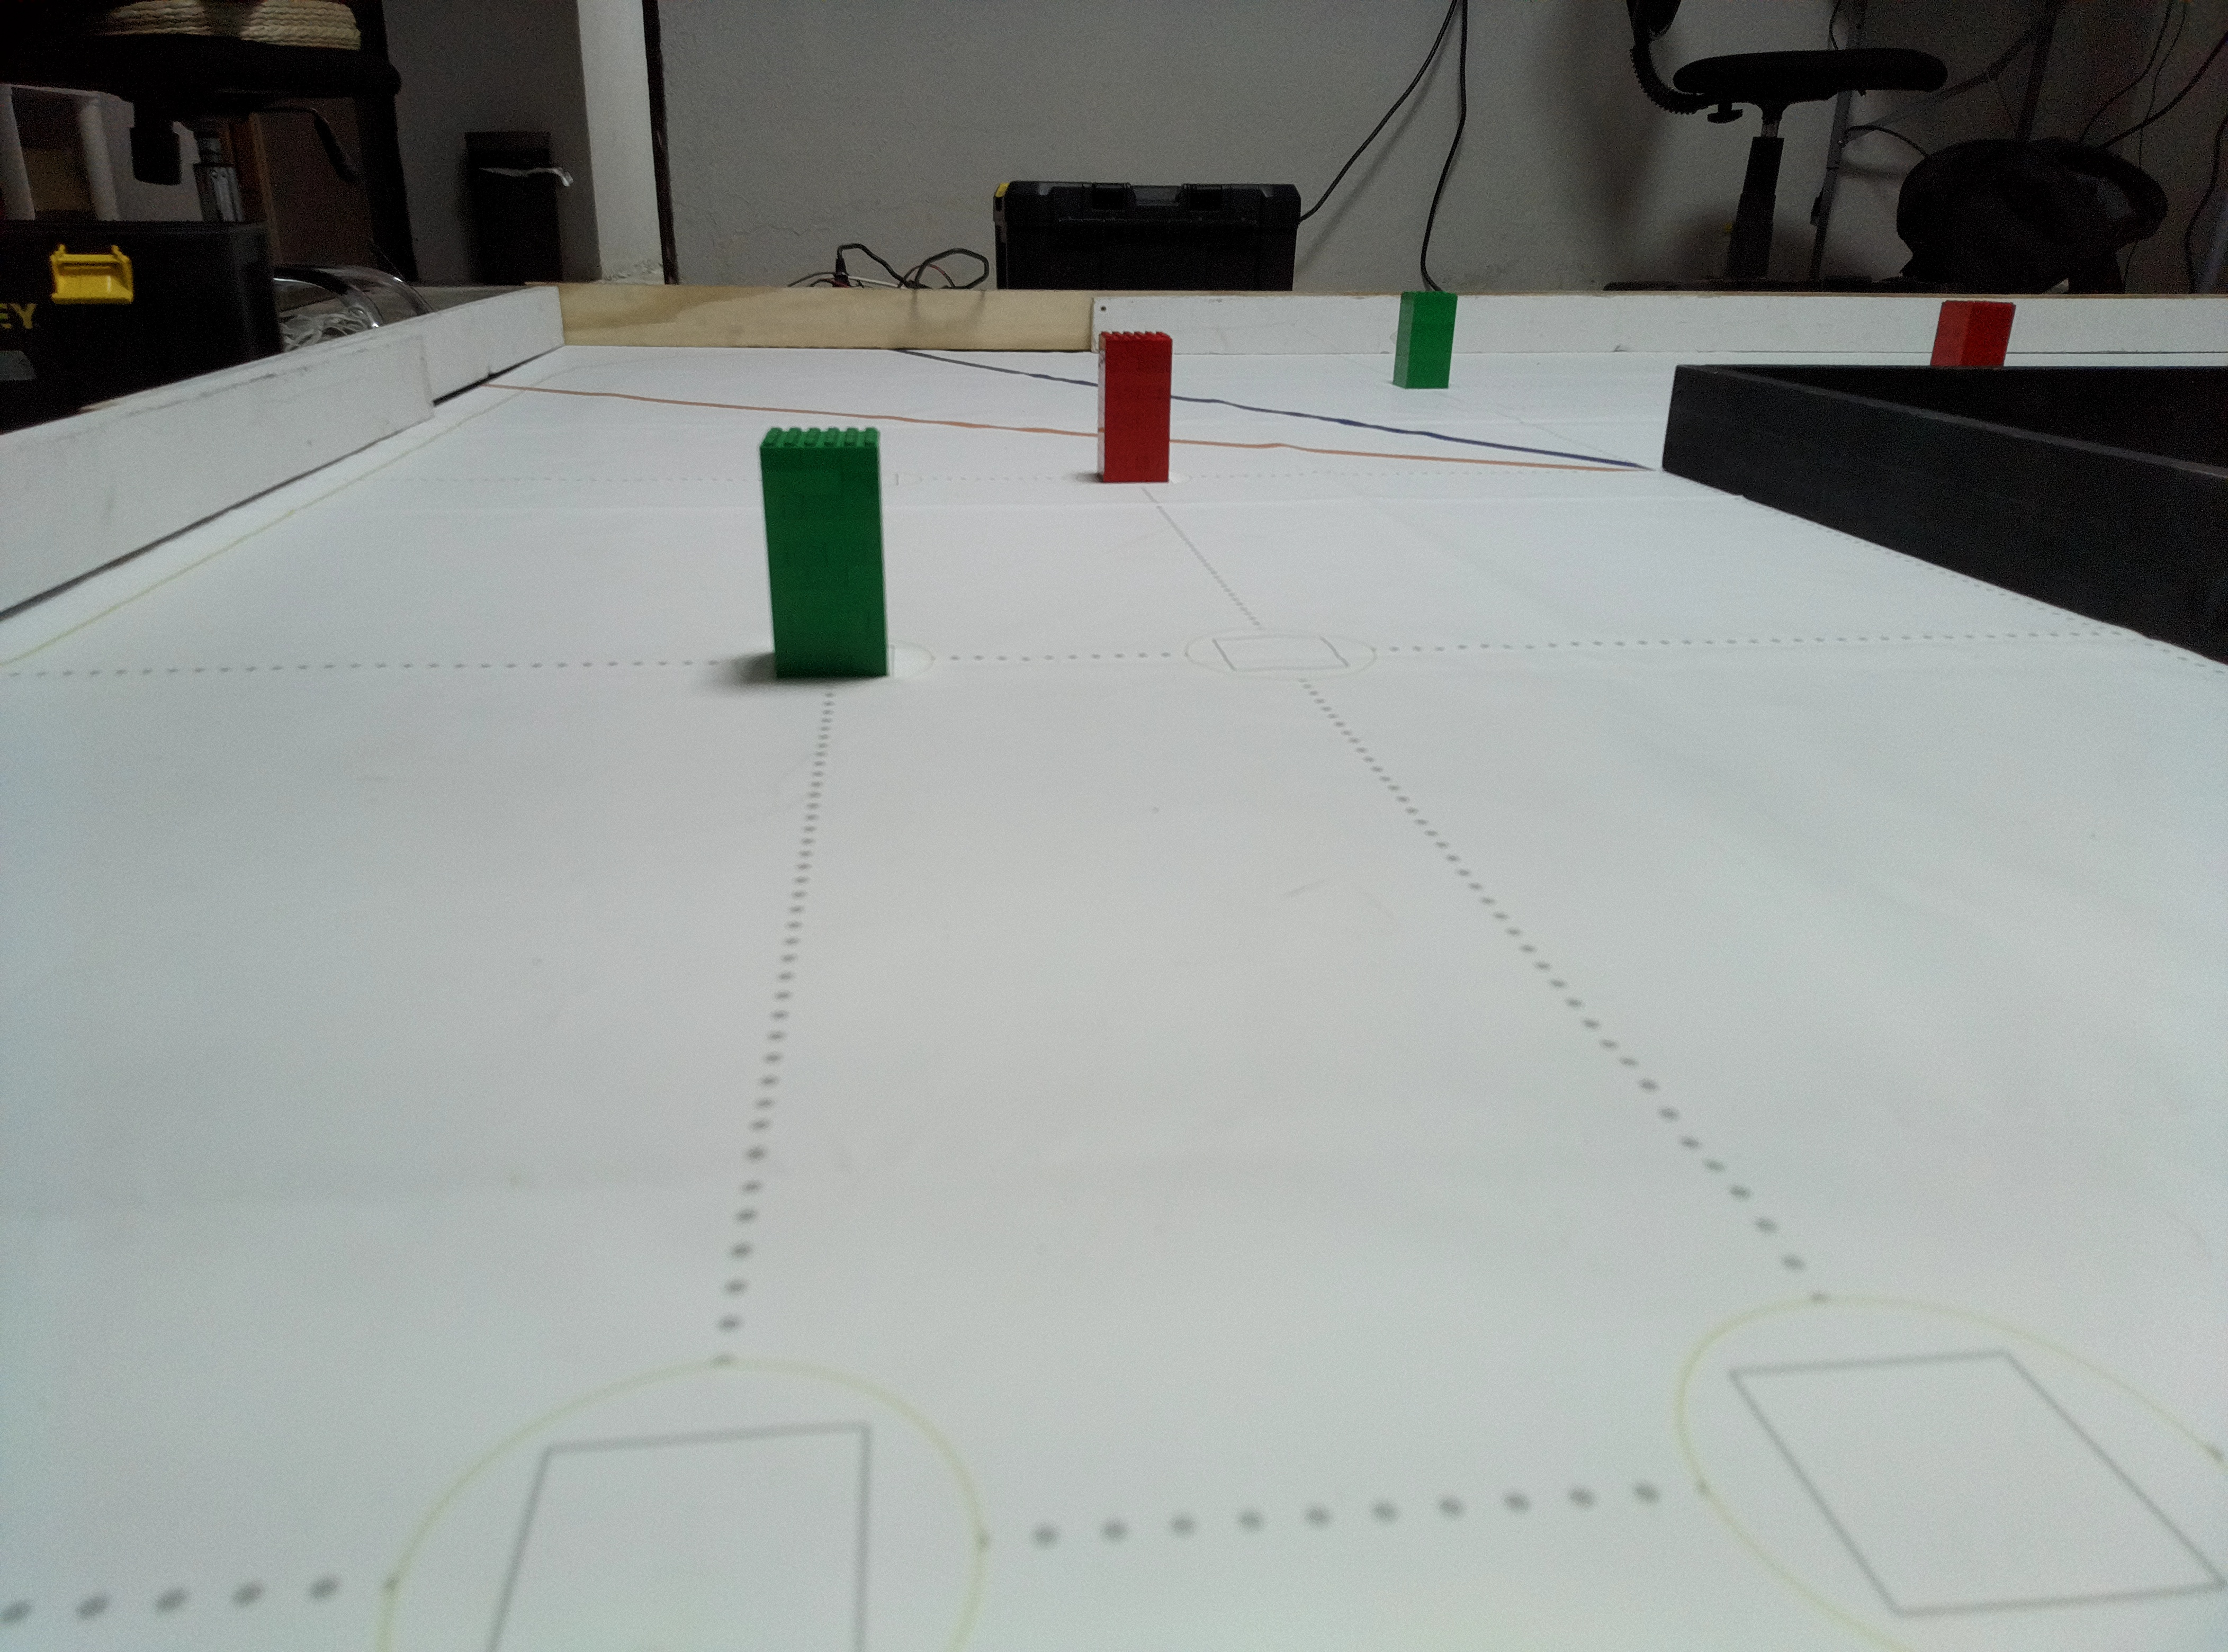greenbox: (755, 423, 895, 682), (1388, 292, 1459, 389)
redbox: (1095, 328, 1175, 488), (1928, 298, 2018, 368)
